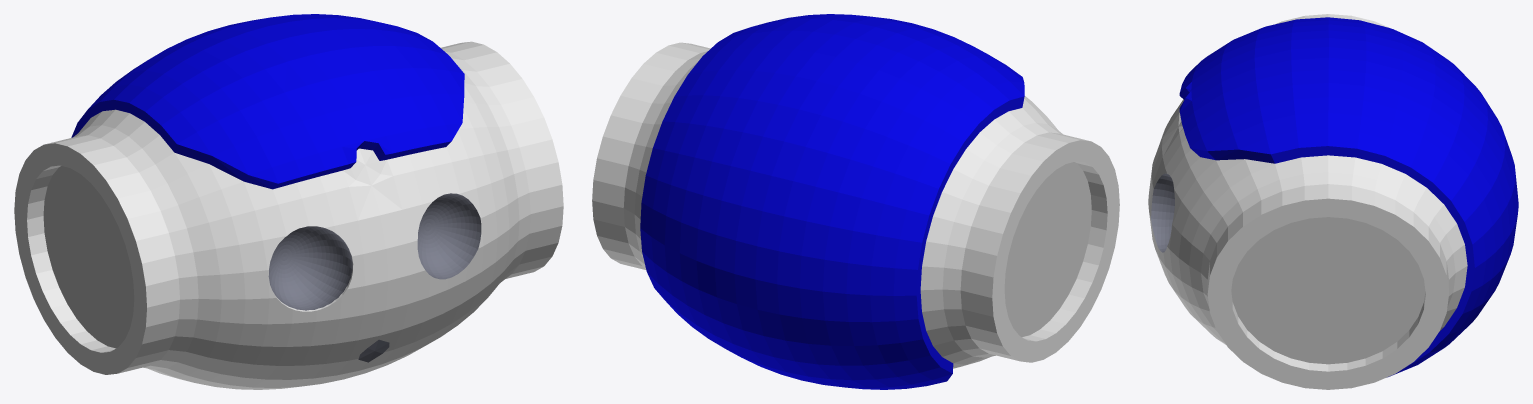
Rendered from cabeza.dae.
The picture shows the model from 3 angles, left to right: view 1: azimuth 30°, elevation 25°; view 2: azimuth 150°, elevation 25°; view 3: azimuth 270°, elevation 25°; orthographic projection. The views are drawn at different scales.
Visible parts, largest first — view 1: Sphere_m_001, Sphere_m_004, Sphere_n_000, Sphere_m_002, Sphere_m_000, Sphere_m_003; view 2: Sphere_m_004, Sphere_m_001, Sphere_n_000; view 3: Sphere_m_004, Sphere_m_001, Sphere_n_000, Sphere_m_000.
Boxes of the visible parts, bbox=[...] form: Sphere_m_001: bbox=[14, 41, 563, 389]; Sphere_m_004: bbox=[71, 14, 464, 189]; Sphere_n_000: bbox=[43, 166, 134, 348]; Sphere_m_002: bbox=[268, 226, 352, 310]; Sphere_m_000: bbox=[417, 193, 481, 279]; Sphere_m_003: bbox=[350, 148, 380, 185]; Sphere_m_004: bbox=[640, 14, 1024, 389]; Sphere_m_001: bbox=[592, 42, 1119, 368]; Sphere_n_000: bbox=[1004, 162, 1091, 336]; Sphere_m_004: bbox=[1179, 17, 1518, 377]; Sphere_m_001: bbox=[1148, 14, 1467, 389]; Sphere_n_000: bbox=[1231, 217, 1425, 364]; Sphere_m_000: bbox=[1151, 173, 1174, 252].
Bounding box in the file's own units: 1.32 × 1.12 × 1.
